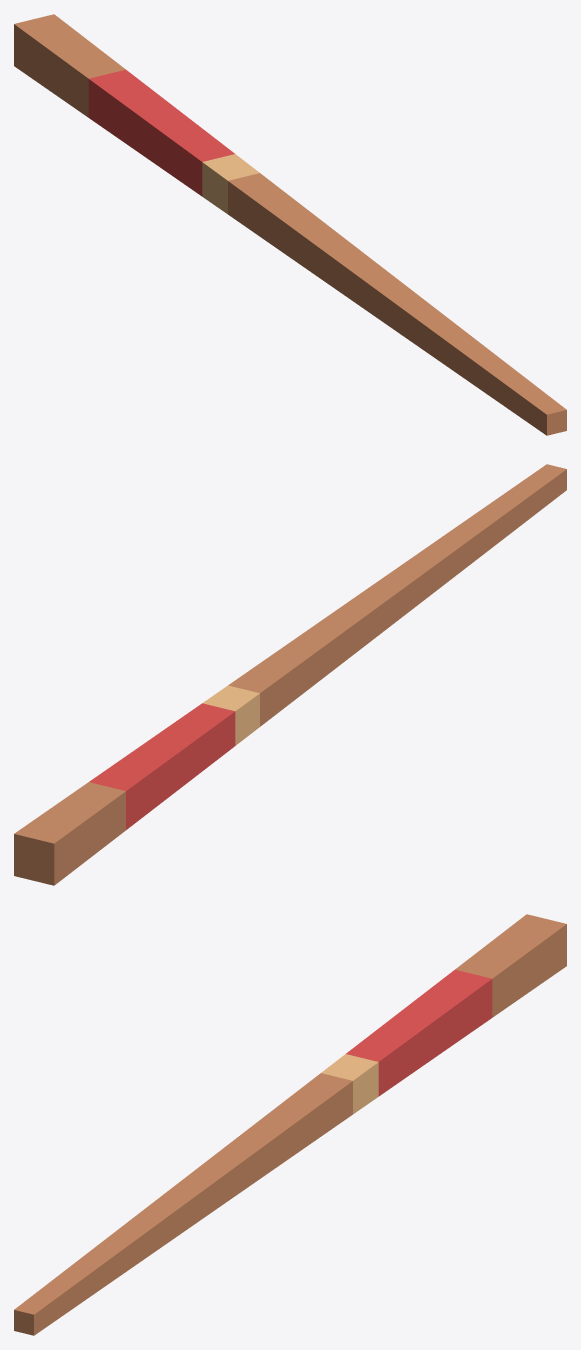
Rendered from chopstickFancy.fbx.
3 renders of one model, top to bottom at view 1: azimuth 30°, elevation 25°; view 2: azimuth 150°, elevation 25°; view 3: azimuth 330°, elevation 25°, orthographic.
Visible parts, largest first — view 1: chopstickFancy; view 2: chopstickFancy; view 3: chopstickFancy.
Part boxes in pixels (left/top/right/bottom): chopstickFancy: left=14, top=14, right=566, bottom=435; chopstickFancy: left=14, top=464, right=566, bottom=885; chopstickFancy: left=14, top=914, right=566, bottom=1335.
Bounding box in the file's own units: 0.2 × 0.2 × 4.5.
